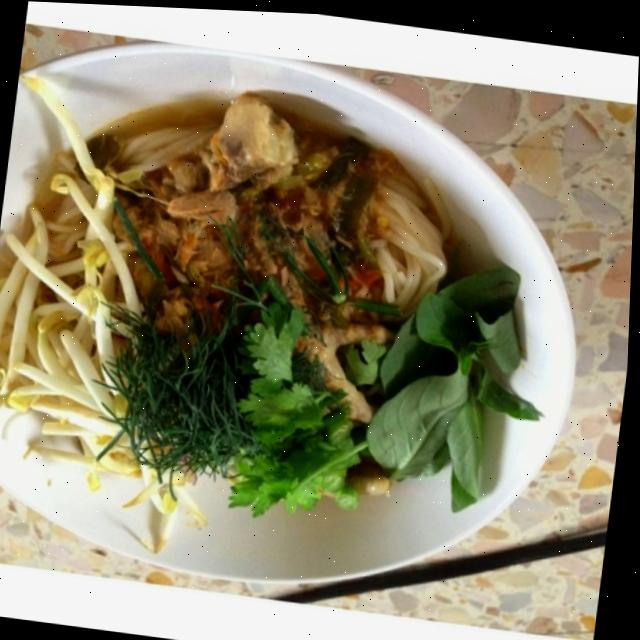面条主食: (0, 27, 627, 617)
